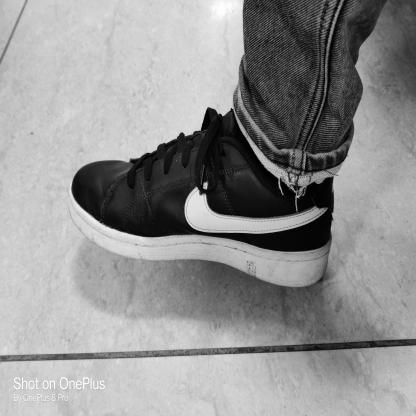ankle: (266, 186, 275, 198)
heel: (315, 269, 321, 276)
pinky: (112, 163, 116, 168)
right_foot: (69, 119, 337, 289)
toe: (72, 195, 79, 205)
